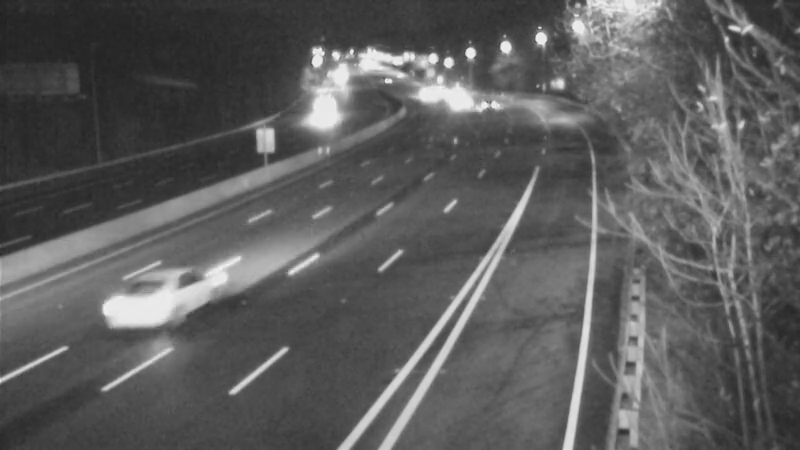vehicle: (83, 251, 193, 361), (399, 69, 449, 119), (434, 79, 484, 129), (462, 80, 512, 130), (294, 92, 344, 142)
